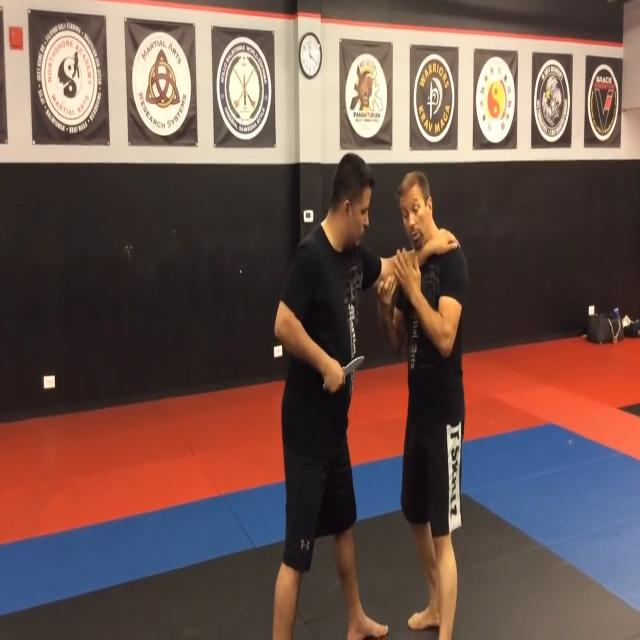knife: (343, 350, 369, 384)
